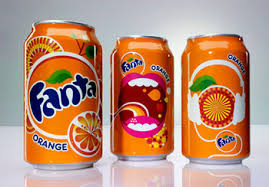fanta: (25, 22, 101, 170), (181, 36, 250, 165), (111, 36, 172, 161)
